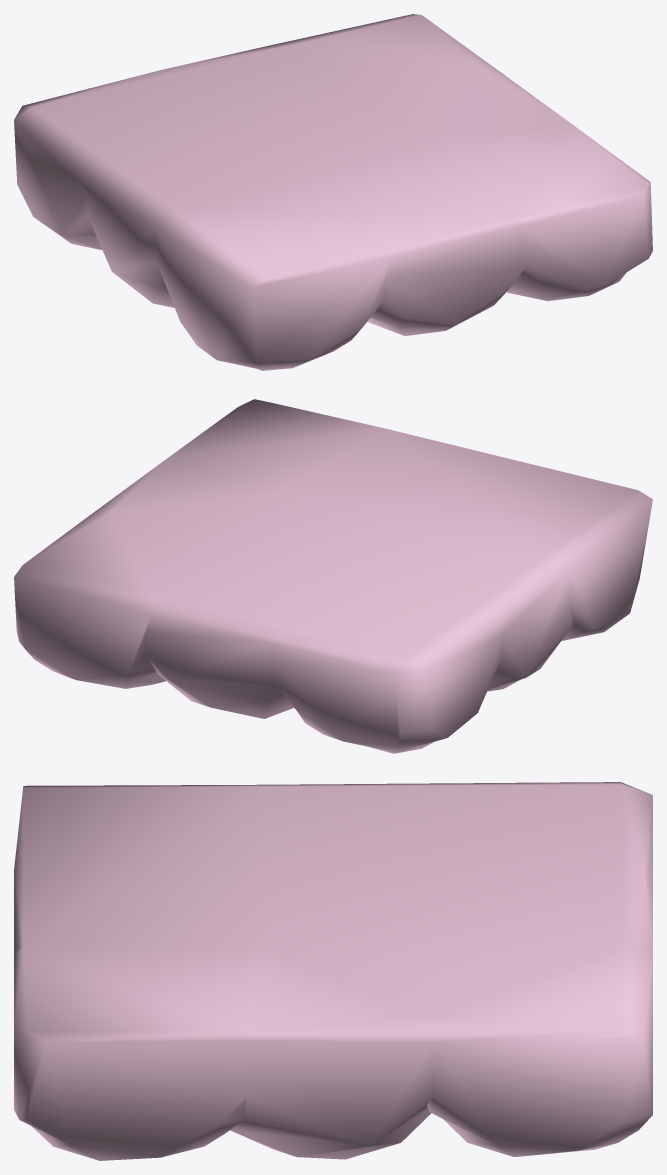
Rendered from Cloud_mp.fbx.
3 renders of one model, top to bottom at view 1: azimuth 30°, elevation 25°; view 2: azimuth 150°, elevation 25°; view 3: azimuth 270°, elevation 25°, orthographic. The views are drawn at different scales.
Visible parts, largest first — view 1: cloud; view 2: cloud; view 3: cloud.
Boxes of the visible parts, <box> form: cloud: <box>14,14,652,370</box>; cloud: <box>14,399,652,753</box>; cloud: <box>14,782,652,1160</box>.
Bounding box in the file's own units: 5.57 × 1.57 × 5.77.
